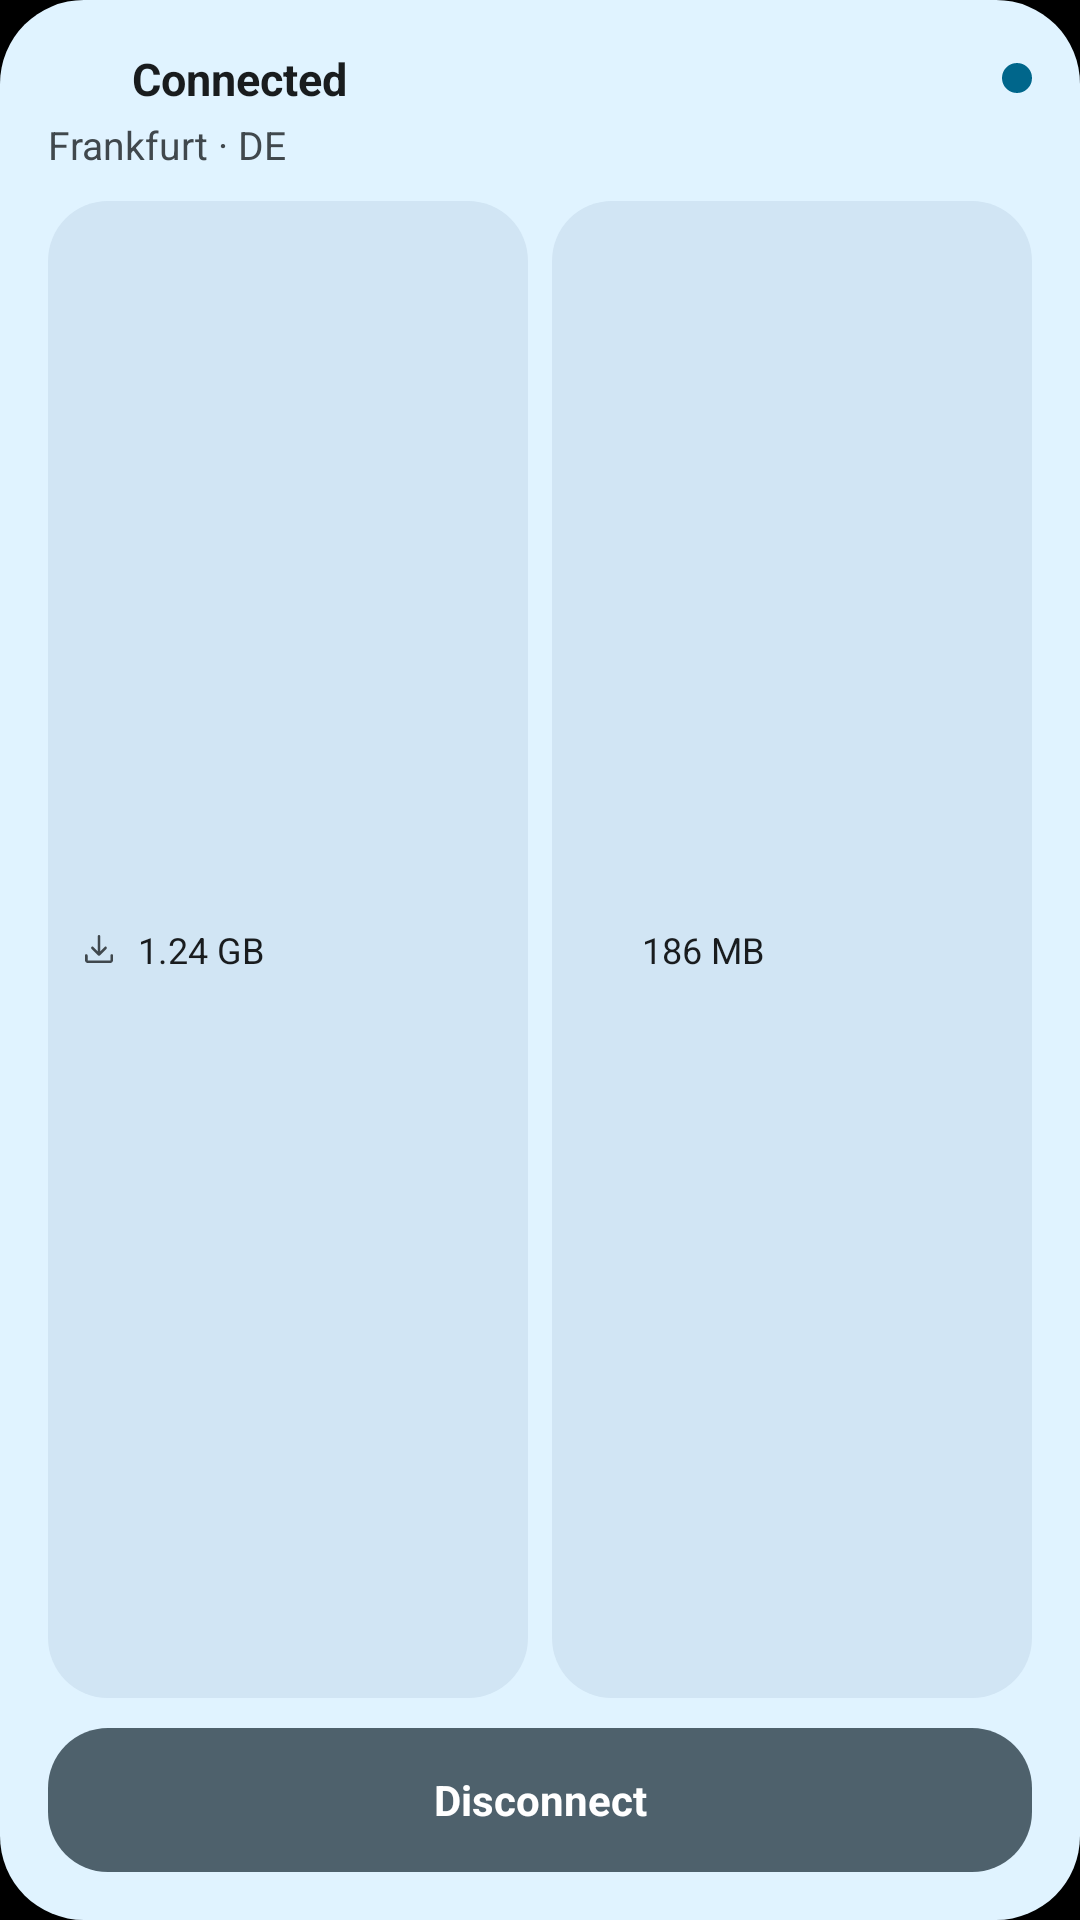

Screen size 1080*1920. Icon name, then its center in pixels as (x,y):
download: (99,949)
